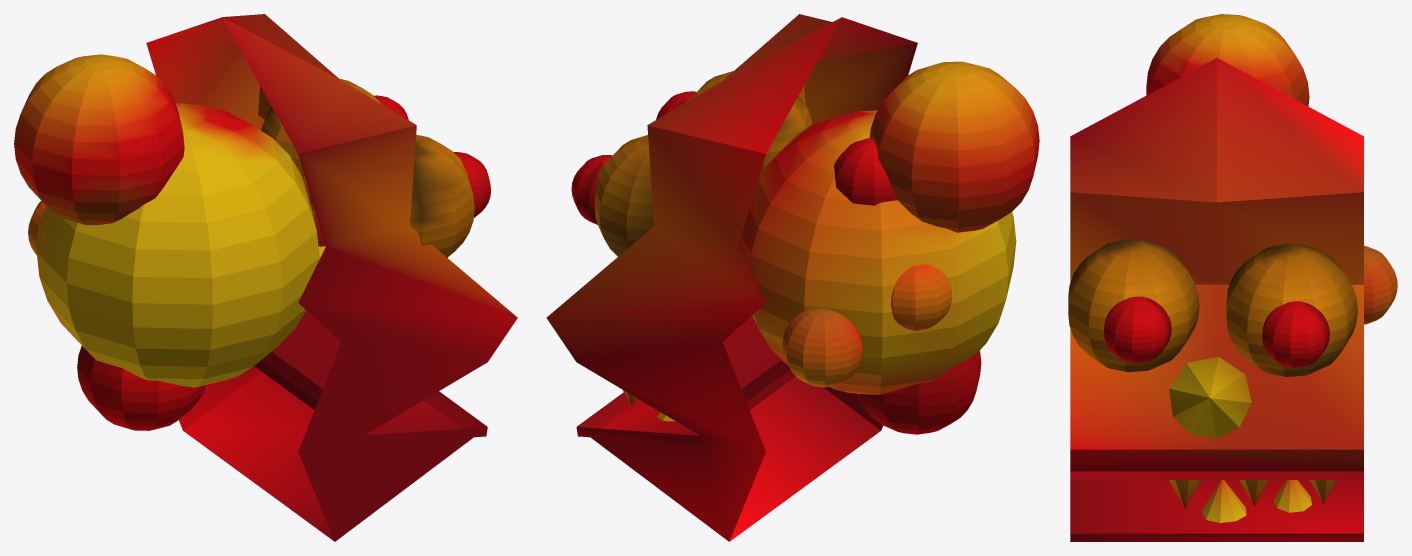
The model's file is demonn.fbx.
3 views of the same model, side by side, from view 1: azimuth 30°, elevation 25°; view 2: azimuth 150°, elevation 25°; view 3: azimuth 270°, elevation 25° (orthographic). The views are drawn at different scales.
Visible parts, largest first — view 1: Cube, Sphere.002, Sphere.004, Sphere.001, Sphere.003, Sphere, Sphere.009; view 2: Cube, Sphere.002, Sphere.004, Sphere, Sphere.003, Sphere.005, Sphere.007, Sphere.006, Sphere.001, Sphere.008; view 3: Cube, Sphere, Sphere.001, Sphere.004, Cone.005, Sphere.009, Sphere.008, Sphere.005, Cone.002, Cone.001, Cone.004, Cone.003.
Part boxes in pixels (box(x1,y1,x2,y2)): Cube: box(146, 14, 517, 541); Sphere.002: box(36, 103, 319, 387); Sphere.004: box(14, 54, 184, 225); Sphere.001: box(410, 135, 474, 257); Sphere.003: box(77, 345, 205, 430); Sphere: box(261, 79, 380, 214); Sphere.009: box(453, 152, 490, 217); Cube: box(546, 14, 917, 541); Sphere.002: box(738, 110, 1016, 394); Sphere.004: box(869, 61, 1039, 232); Sphere: box(594, 135, 654, 256); Sphere.003: box(857, 350, 981, 434); Sphere.005: box(782, 308, 863, 387); Sphere.007: box(891, 264, 952, 331); Sphere.006: box(834, 138, 896, 205); Sphere.001: box(689, 71, 812, 171); Sphere.008: box(571, 155, 612, 224); Cube: box(1070, 58, 1363, 541); Sphere: box(1226, 243, 1357, 376); Sphere.001: box(1068, 238, 1199, 372); Sphere.004: box(1146, 14, 1309, 106); Cone.005: box(1169, 356, 1251, 438); Sphere.009: box(1104, 296, 1171, 363); Sphere.008: box(1262, 301, 1329, 368); Sphere.005: box(1364, 246, 1397, 324); Cone.002: box(1202, 480, 1246, 522); Cone.001: box(1273, 480, 1311, 512); Cone.004: box(1169, 480, 1200, 508); Cone.003: box(1239, 480, 1268, 506).
Bounding box in the file's own units: 1.97 × 2.02 × 1.31.
